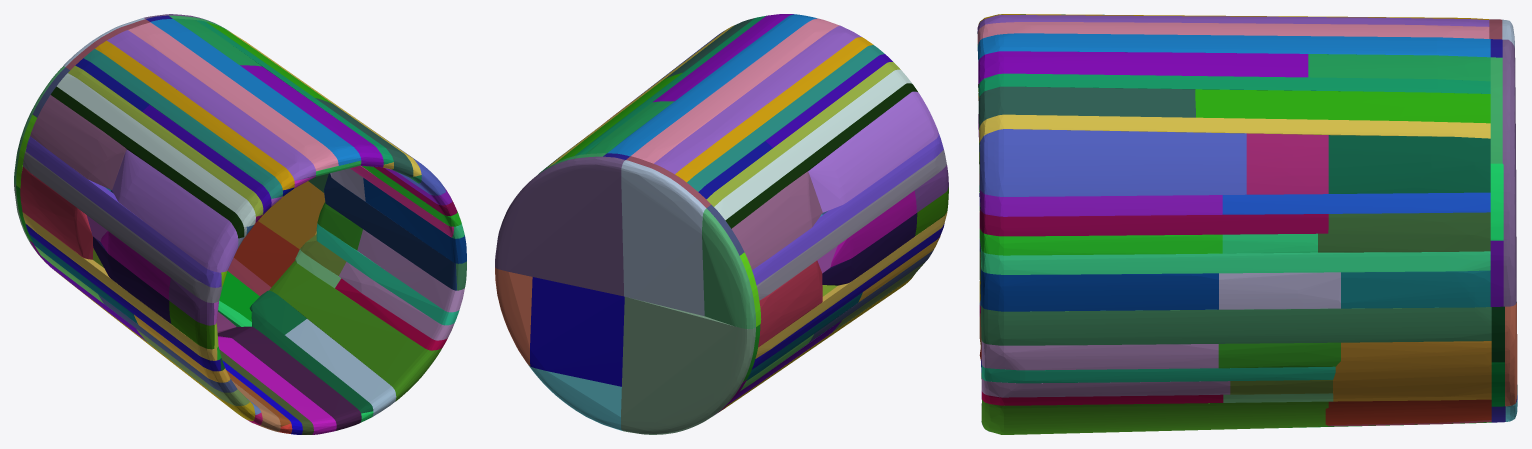
The model's file is coacd_collision.obj.
3 renders of one model, left to right at view 1: azimuth 30°, elevation 25°; view 2: azimuth 150°, elevation 25°; view 3: azimuth 270°, elevation 25°, orthographic. The views are drawn at different scales.
Parts seen in each view (by area): view 1: geometry_30, geometry_40, geometry_46, geometry_24, geometry_41, geometry_99, geometry_29, geometry_44, geometry_83, geometry_26, geometry_45, geometry_60 (+54 smaller); view 2: geometry_0, geometry_1, geometry_6, geometry_5, geometry_40, geometry_46, geometry_24, geometry_41, geometry_3, geometry_99, geometry_29, geometry_83 (+31 smaller); view 3: geometry_43, geometry_47, geometry_61, geometry_30, geometry_29, geometry_66, geometry_75, geometry_42, geometry_110, geometry_90, geometry_32, geometry_94 (+29 smaller).
Boxes of the visible parts, left/top/right/bottom form: geometry_30: left=269, top=260, right=441, bottom=401; geometry_40: left=112, top=149, right=238, bottom=272; geometry_46: left=107, top=30, right=315, bottom=180; geometry_24: left=128, top=22, right=338, bottom=171; geometry_41: left=30, top=95, right=126, bottom=190; geometry_99: left=56, top=73, right=255, bottom=226; geometry_29: left=150, top=19, right=360, bottom=165; geometry_44: left=324, top=173, right=456, bottom=290; geometry_83: left=25, top=136, right=221, bottom=287; geometry_26: left=217, top=326, right=361, bottom=430; geometry_45: left=23, top=151, right=222, bottom=302; geometry_60: left=83, top=49, right=282, bottom=198; geometry_0: left=621, top=297, right=755, bottom=434; geometry_1: left=495, top=156, right=625, bottom=296; geometry_6: left=621, top=160, right=706, bottom=316; geometry_5: left=530, top=277, right=624, bottom=386; geometry_40: left=808, top=91, right=938, bottom=212; geometry_46: left=654, top=25, right=861, bottom=174; geometry_24: left=631, top=18, right=839, bottom=163; geometry_41: left=731, top=171, right=822, bottom=269; geometry_3: left=702, top=208, right=755, bottom=328; geometry_99: left=714, top=69, right=912, bottom=220; geometry_29: left=607, top=14, right=817, bottom=156; geometry_83: left=752, top=133, right=943, bottom=285; geometry_43: left=981, top=305, right=1491, bottom=345; geometry_47: left=979, top=129, right=1246, bottom=196; geometry_61: left=980, top=248, right=1490, bottom=274; geometry_30: left=981, top=400, right=1328, bottom=434; geometry_29: left=977, top=33, right=1490, bottom=61; geometry_66: left=1328, top=135, right=1490, bottom=193; geometry_75: left=1333, top=341, right=1491, bottom=401; geometry_42: left=980, top=269, right=1218, bottom=311; geometry_110: left=1195, top=89, right=1490, bottom=123; geometry_90: left=979, top=114, right=1490, bottom=142; geometry_32: left=978, top=51, right=1308, bottom=86; geometry_94: left=979, top=209, right=1328, bottom=236.
Size of the model in its own units: 83.49 by 83.31 by 107.
